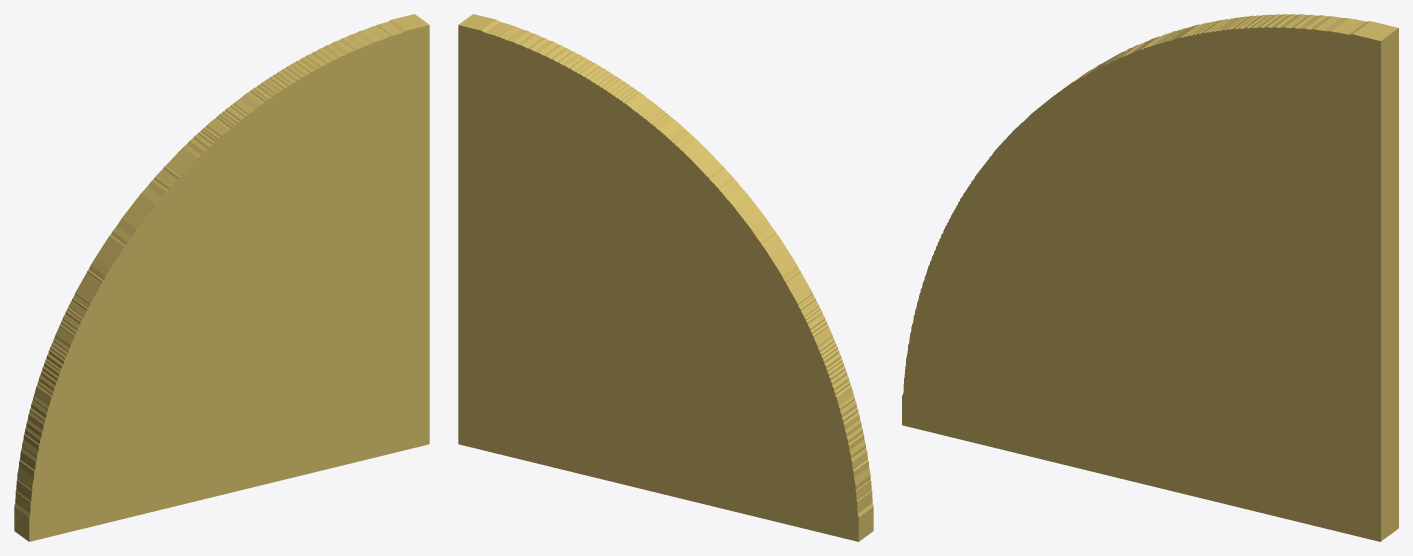
File: bytecorp-quarter.glb
3 views of the same model, side by side, from view 1: azimuth 30°, elevation 25°; view 2: azimuth 150°, elevation 25°; view 3: azimuth 330°, elevation 25° (orthographic). The views are drawn at different scales.
Parts seen in each view (by area): view 1: geometry_0; view 2: geometry_0; view 3: geometry_0.
Part boxes in pixels (x1=…): geometry_0: x1=14, y1=14, x2=429, y2=541; geometry_0: x1=458, y1=14, x2=873, y2=541; geometry_0: x1=902, y1=14, x2=1398, y2=541.
Bounding box in the file's own units: 2 × 2 × 0.13.
